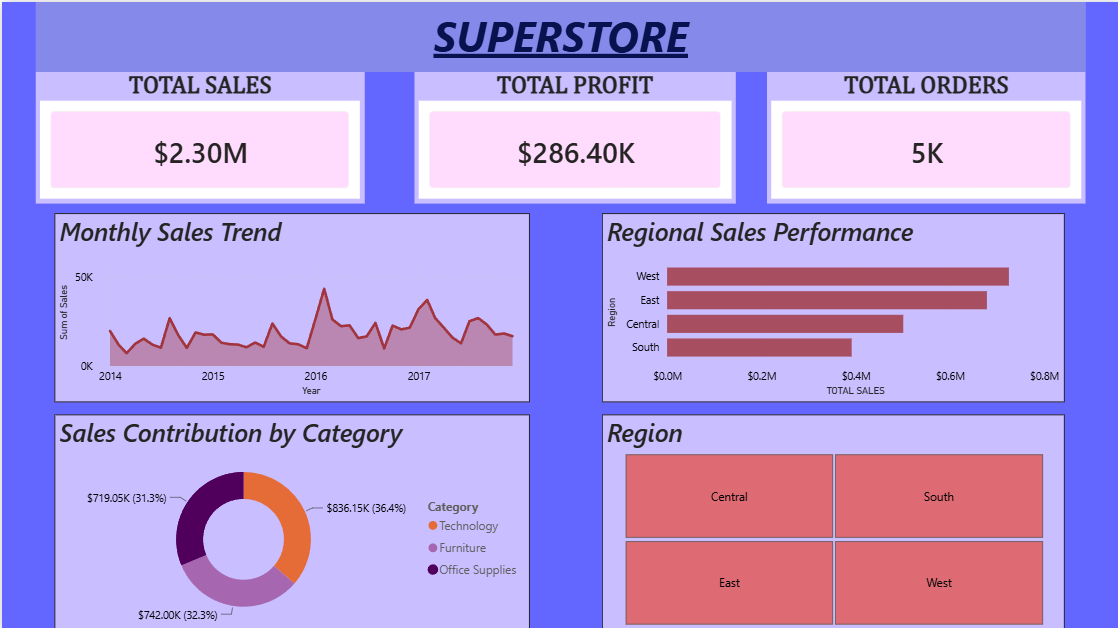

The page's visual inventory and layout, read from the dashboard file:
{"tool":"powerbi","page":{"name":"Page 1","canvas":[1280,720],"ordinal":0},"visuals":[{"type":"cardVisual","title":"TOTAL ORDERS","fields":{"Data":["superstore.TOTAL ORDERS"]},"box":[874.3,80,364.3,150],"z":0},{"type":"cardVisual","title":"TOTAL PROFIT","fields":{"Data":["superstore.TOTAL PROFIT"]},"box":[471.4,80,367.1,150],"z":1},{"type":"cardVisual","title":"TOTAL SALES","fields":{"Data":["superstore.TOTAL SALES"]},"box":[38.6,80,375.7,150],"z":2},{"type":"textbox","box":[38.6,0,1200,80],"z":3},{"type":"lineChart","title":"Monthly Sales Trend","fields":{"Category":["superstore.Order Date.Variation.Date Hierarchy.Year","superstore.Order Date.Variation.Date Hierarchy.Month"],"Y":["Sum(superstore.Sales)"]},"box":[60,241.4,542.9,215.7],"z":4},{"type":"clusteredBarChart","title":"Regional Sales Performance","fields":{"Category":["superstore.Region"],"Y":["superstore.TOTAL SALES"]},"box":[685.7,241.4,528.6,215.7],"z":5},{"type":"donutChart","title":"Sales Contribution by Category","fields":{"Category":["superstore.Category"],"Y":["superstore.TOTAL SALES"]},"box":[60,471.4,542.9,248.6],"z":6},{"type":"slicer","title":"Region","fields":{"Values":["superstore.Region"]},"box":[685.7,471.4,528.6,248.6],"z":7}]}

Visuals, with their boxes in screenshot pixels (x1, y1, x2, y2), scaled from the page's 1280x720 canvas onto the 1118x628 screenshot:
"TOTAL ORDERS" cardVisual: l=764, t=70, r=1082, b=201
"TOTAL PROFIT" cardVisual: l=412, t=70, r=732, b=201
"TOTAL SALES" cardVisual: l=34, t=70, r=362, b=201
textbox: l=34, t=0, r=1082, b=70
"Monthly Sales Trend" lineChart: l=52, t=211, r=527, b=399
"Regional Sales Performance" clusteredBarChart: l=599, t=211, r=1061, b=399
"Sales Contribution by Category" donutChart: l=52, t=411, r=527, b=627
"Region" slicer: l=599, t=411, r=1061, b=627
